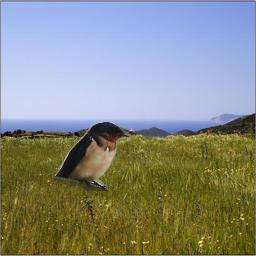Swallow: (54, 121, 130, 191)
